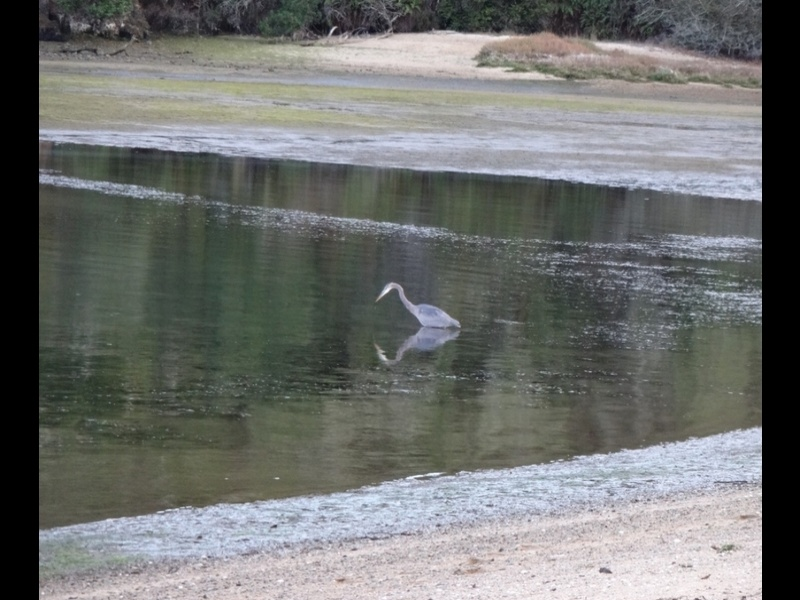heron: (374, 280, 461, 330)
